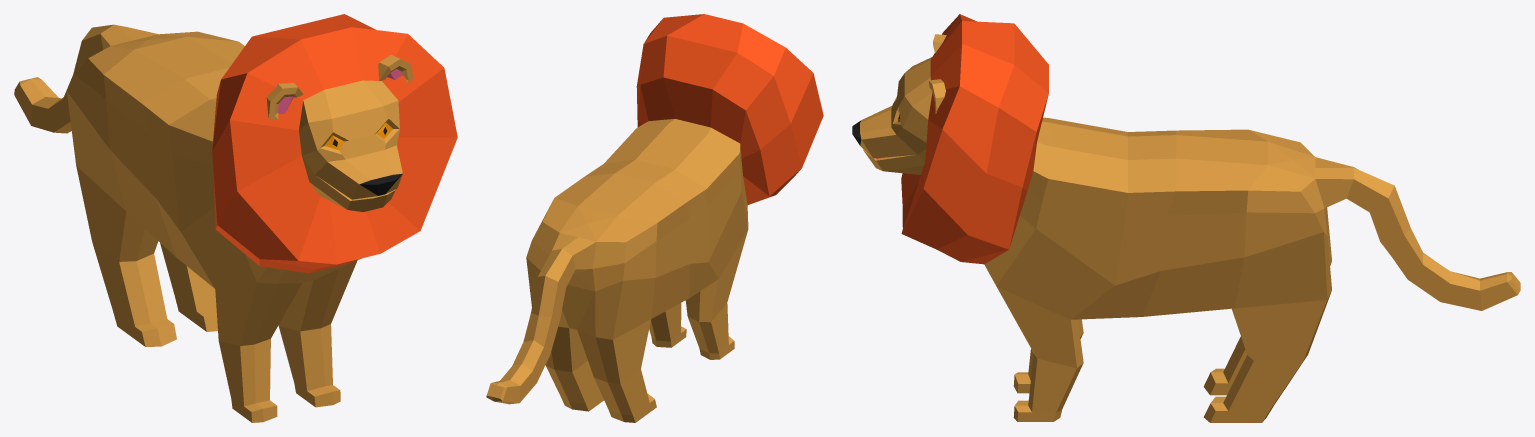
File: lion.glb
3 renders of one model, left to right at view 1: azimuth 30°, elevation 25°; view 2: azimuth 150°, elevation 25°; view 3: azimuth 270°, elevation 25°, orthographic. The views are drawn at different scales.
Visible parts, largest first — view 1: Lion_01_Circle.005; view 2: Lion_01_Circle.005; view 3: Lion_01_Circle.005.
Boxes of the visible parts, bbox=[...] form: Lion_01_Circle.005: bbox=[14, 14, 457, 422]; Lion_01_Circle.005: bbox=[486, 14, 823, 422]; Lion_01_Circle.005: bbox=[852, 14, 1520, 422].
Size of the model in its own units: 5.04 by 8.75 by 14.34.
